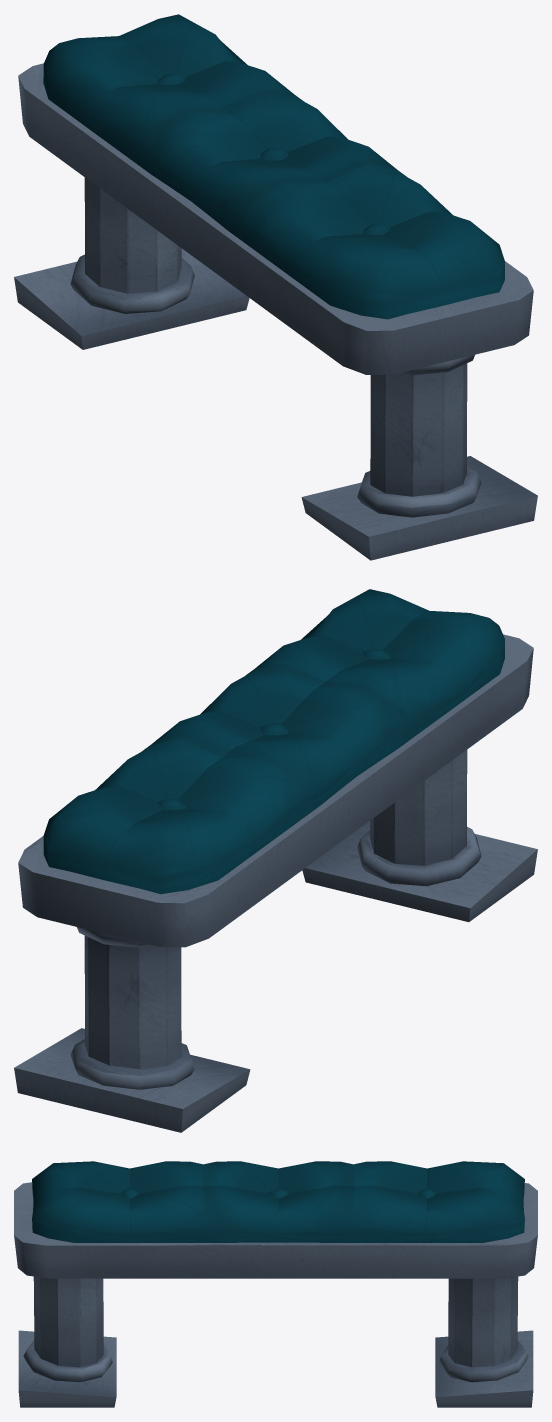
The model's file is plush_bench.fbx.
3 views of the same model, one above another, from view 1: azimuth 30°, elevation 25°; view 2: azimuth 150°, elevation 25°; view 3: azimuth 270°, elevation 25° (orthographic). The views are drawn at different scales.
Parts seen in each view (by area): view 1: stone bench.001, cushion.?; view 2: stone bench.001, cushion.?; view 3: stone bench.001, cushion.?.
Boxes of the visible parts, left/top/right/bottom form: stone bench.001: left=14, top=63, right=537, bottom=560; cushion.?: left=43, top=14, right=504, bottom=319; stone bench.001: left=14, top=634, right=537, bottom=1132; cushion.?: left=43, top=589, right=504, bottom=894; stone bench.001: left=14, top=1182, right=537, bottom=1407; cushion.?: left=32, top=1161, right=524, bottom=1242.
Size of the model in its own units: 322 by 459 by 1097.
